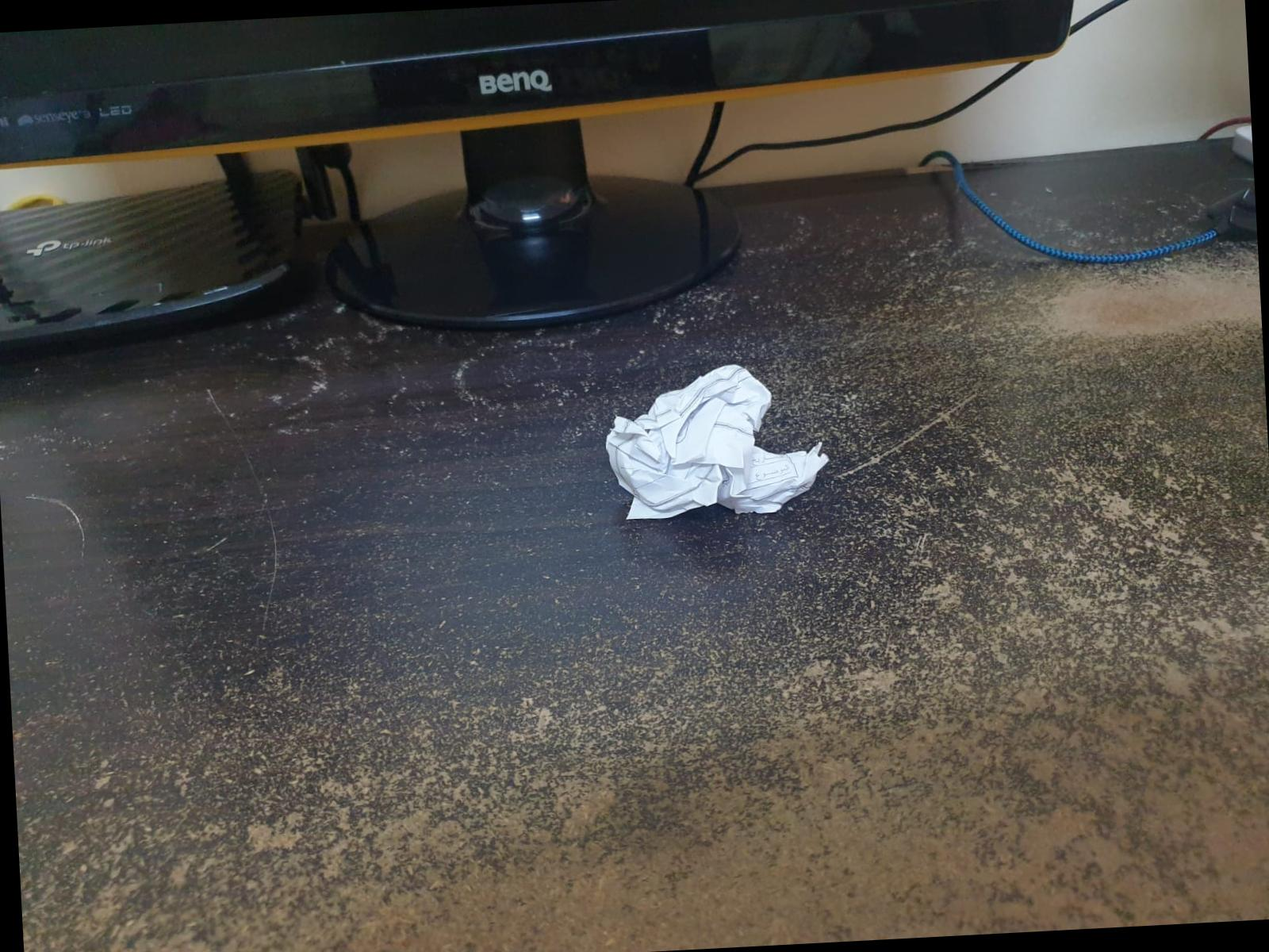Kertas: (608, 362, 833, 521)
